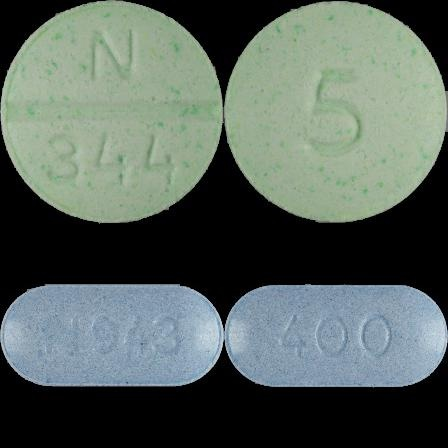58118-8344: (0, 0, 224, 224)
